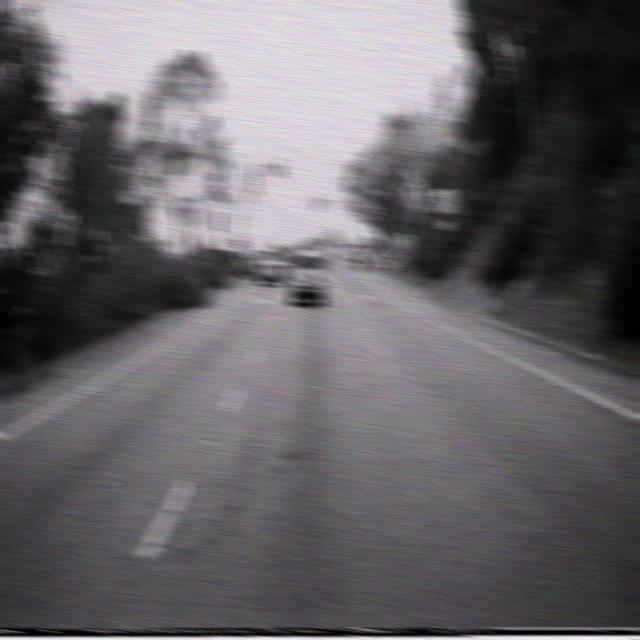pedestrianCrossing: (402, 174, 429, 217)
